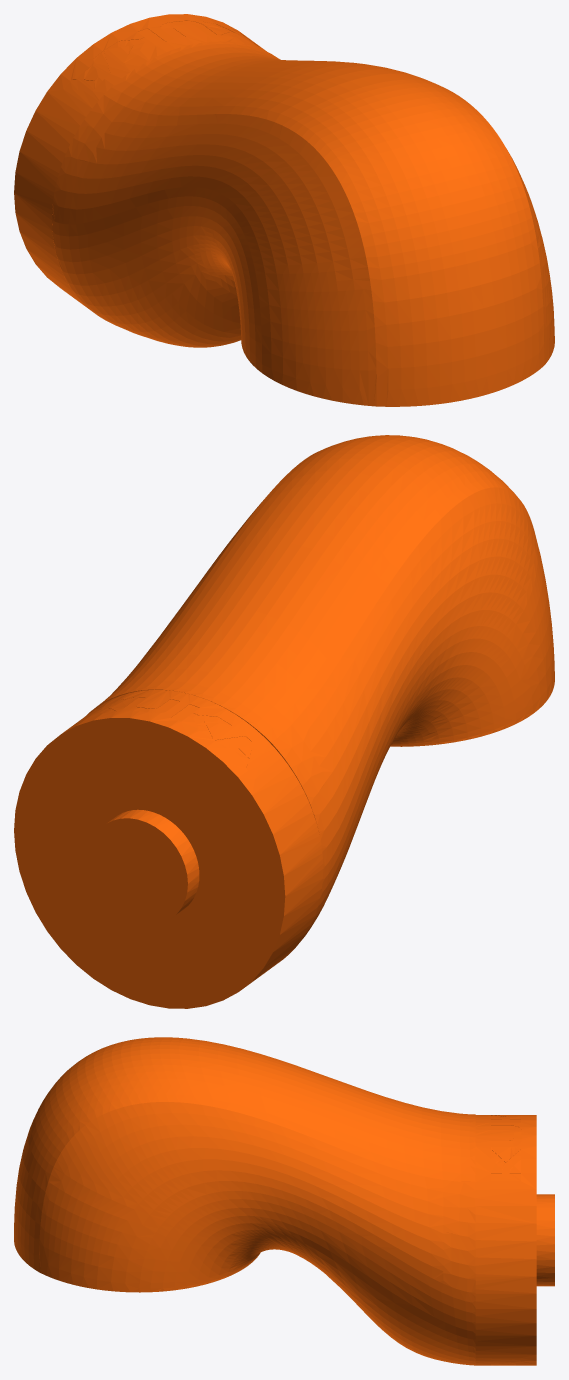
File: iiwa_link_3_visuals_link_3_mesh.obj
The picture shows the model from 3 angles, top to bottom: view 1: azimuth 30°, elevation 25°; view 2: azimuth 150°, elevation 25°; view 3: azimuth 270°, elevation 25°; orthographic projection. The views are drawn at different scales.
Bounding box in the file's own units: 0.136 × 0.1826 × 0.2935.
